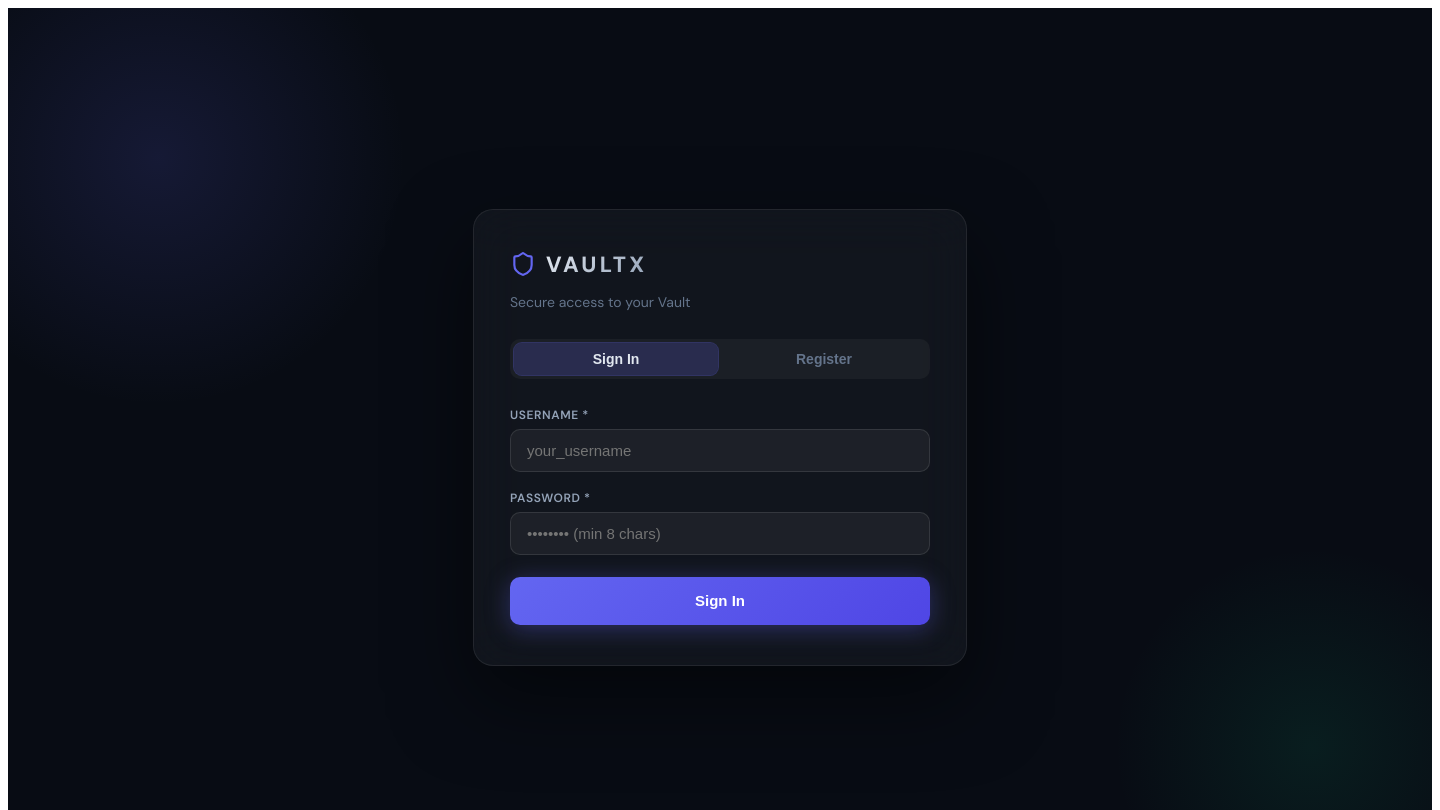
Test: Login page — client-side validation › rejects username shorter than 3 chars
Type "ab" into the field with placeholder "your_username" at (720, 450), box x1=510 y1=428 x2=930 y2=472
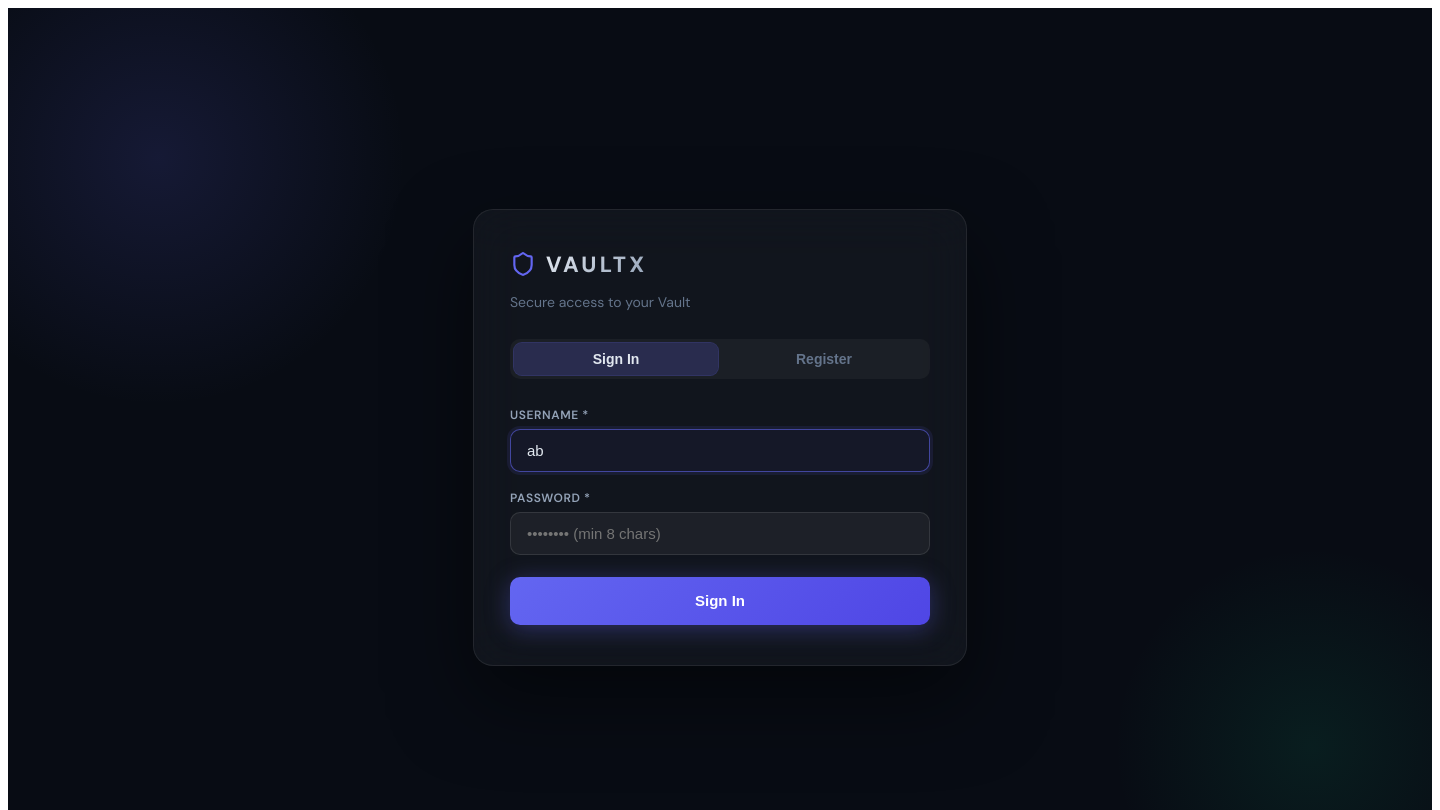
Submit the form, box x1=510 y1=406 x2=930 y2=624
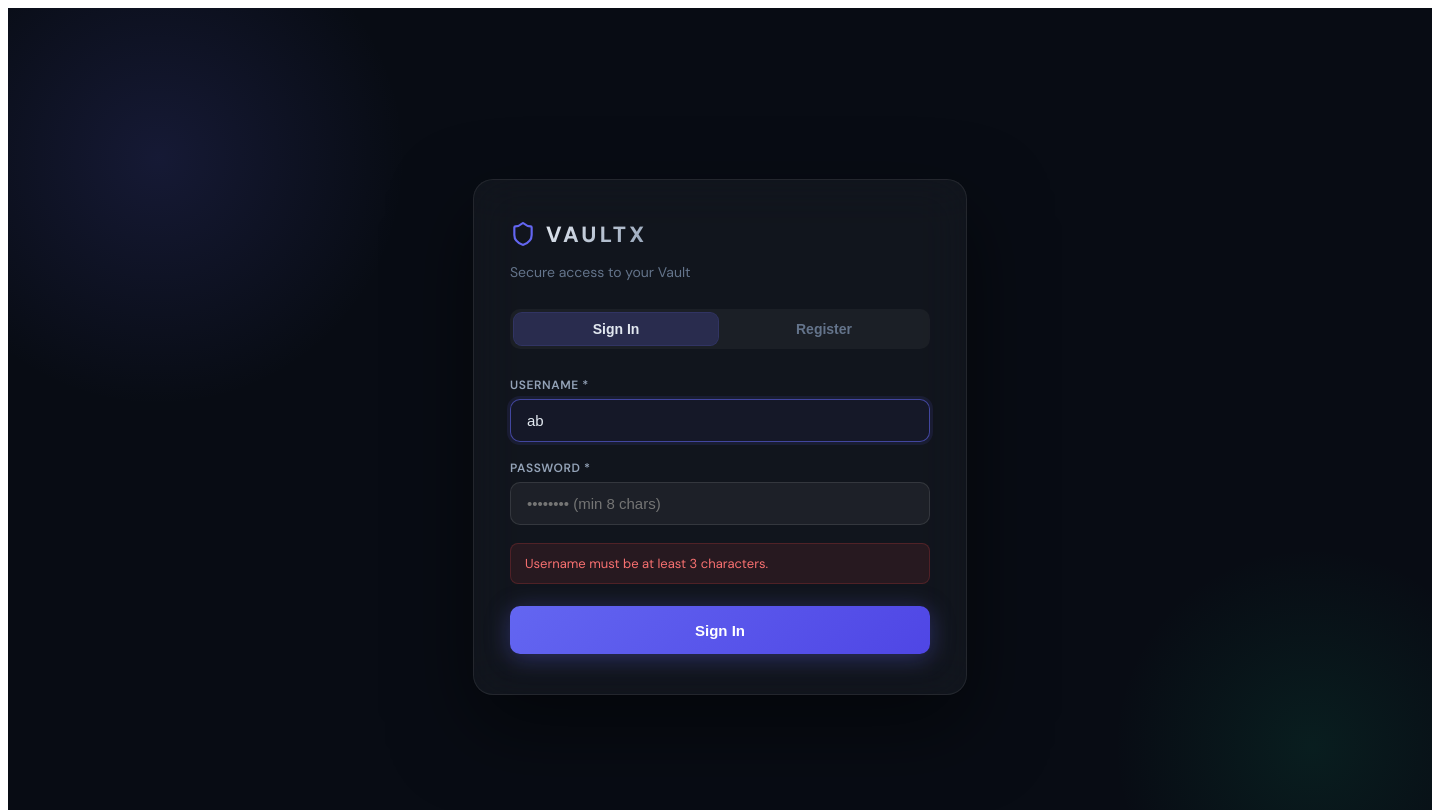
Now the text "Username must be at least 3 characters." is shown, box x1=510 y1=543 x2=930 y2=584
